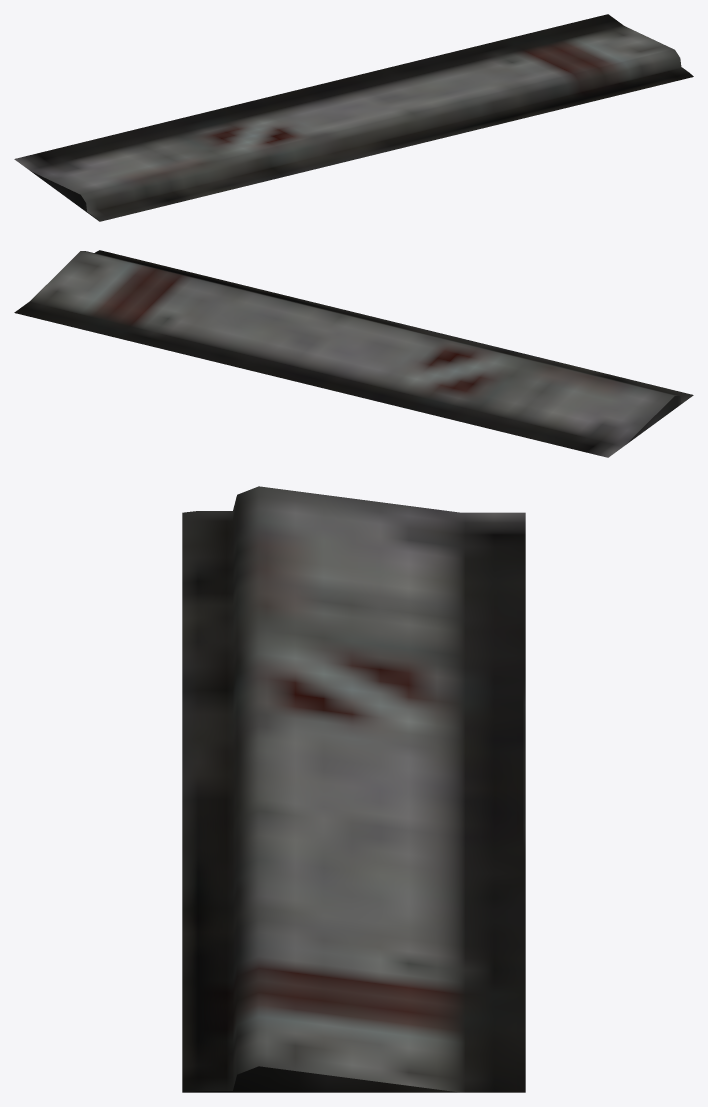
Rendered from Panel_02.FBX.
3 views of the same model, one above another, from view 1: azimuth 30°, elevation 25°; view 2: azimuth 150°, elevation 25°; view 3: azimuth 270°, elevation 25° (orthographic). The views are drawn at different scales.
Parts seen in each view (by area): view 1: Panel_02; view 2: Panel_02; view 3: Panel_02.
Boxes of the visible parts, box(x1,y1,x2,y2) form: Panel_02: box(14, 14, 693, 221); Panel_02: box(14, 250, 693, 457); Panel_02: box(182, 486, 525, 1092).
Size of the model in its own units: 200 by 4.24 by 50.
